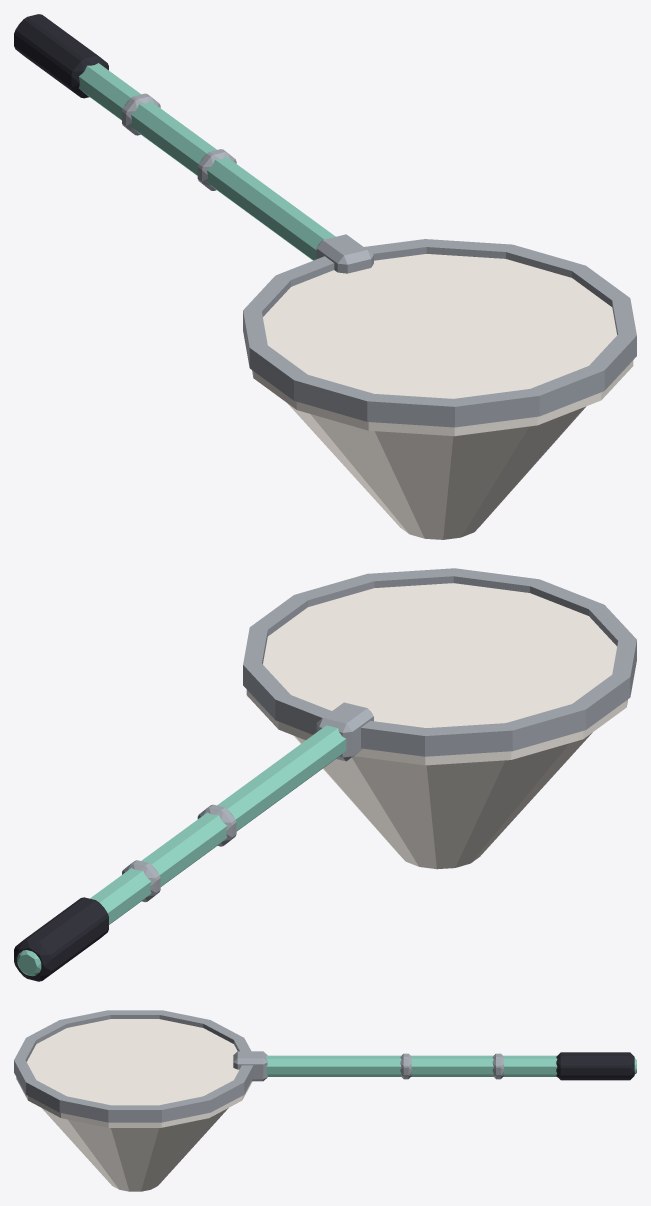
File: CatCafe_Item_Net_L2.glb
The picture shows the model from 3 angles, top to bottom: view 1: azimuth 30°, elevation 25°; view 2: azimuth 150°, elevation 25°; view 3: azimuth 270°, elevation 25°; orthographic projection. The views are drawn at different scales.
Visible parts, largest first — view 1: CatCafe_Item_Net_L2_Bag, CatCafe_Item_Net_L2_Handle; view 2: CatCafe_Item_Net_L2_Bag, CatCafe_Item_Net_L2_Handle; view 3: CatCafe_Item_Net_L2_Bag, CatCafe_Item_Net_L2_Handle.
Part boxes in pixels (x1,y1,x2,y2): CatCafe_Item_Net_L2_Bag: [252, 254, 633, 539]; CatCafe_Item_Net_L2_Handle: [14, 14, 636, 427]; CatCafe_Item_Net_L2_Bag: [246, 583, 627, 869]; CatCafe_Item_Net_L2_Handle: [14, 568, 636, 981]; CatCafe_Item_Net_L2_Bag: [16, 1019, 252, 1191]; CatCafe_Item_Net_L2_Handle: [14, 1010, 636, 1122].
Size of the model in its own units: 2.05 by 1.22 by 5.4.
Materials: 1 (1 with a texture image).
